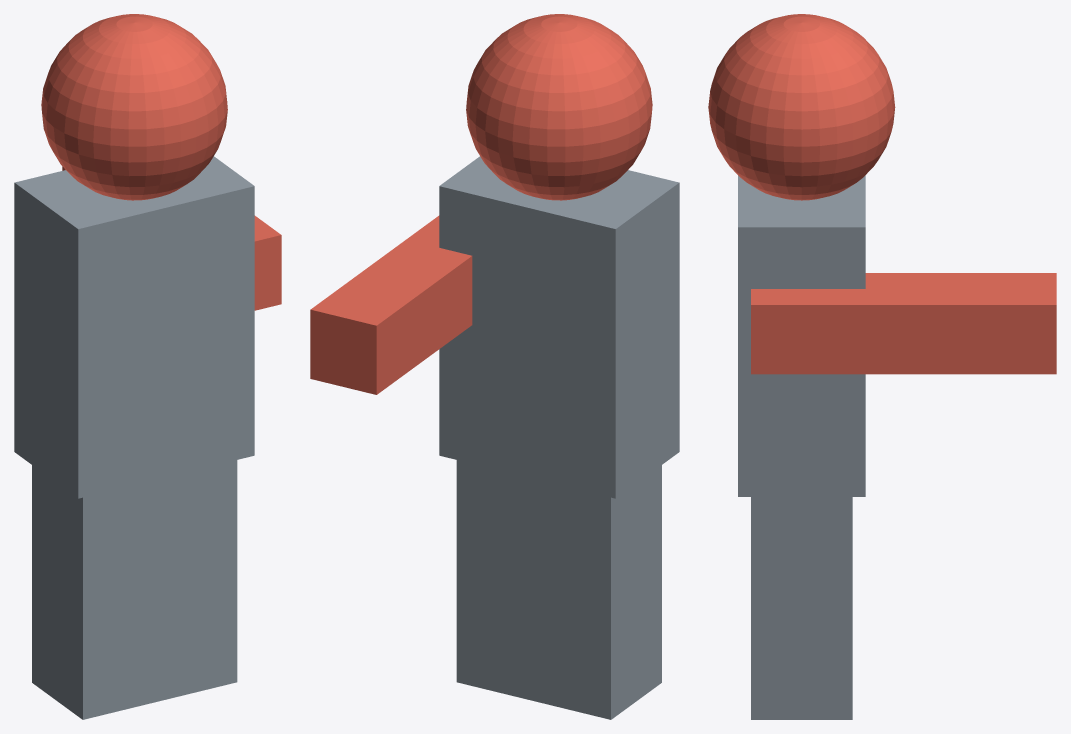
File: SU_MasterEngineer_LOD0.glb
3 views of the same model, side by side, from view 1: azimuth 30°, elevation 25°; view 2: azimuth 150°, elevation 25°; view 3: azimuth 270°, elevation 25° (orthographic).
Parts seen in each view (by area): view 1: Head; view 2: Head; view 3: Head.
Boxes of the visible parts, left/top/right/bottom form: Head: left=14, top=14, right=281, bottom=719; Head: left=310, top=14, right=679, bottom=719; Head: left=708, top=14, right=1056, bottom=719.
Bounding box in the file's own units: 57 × 171 × 82.
